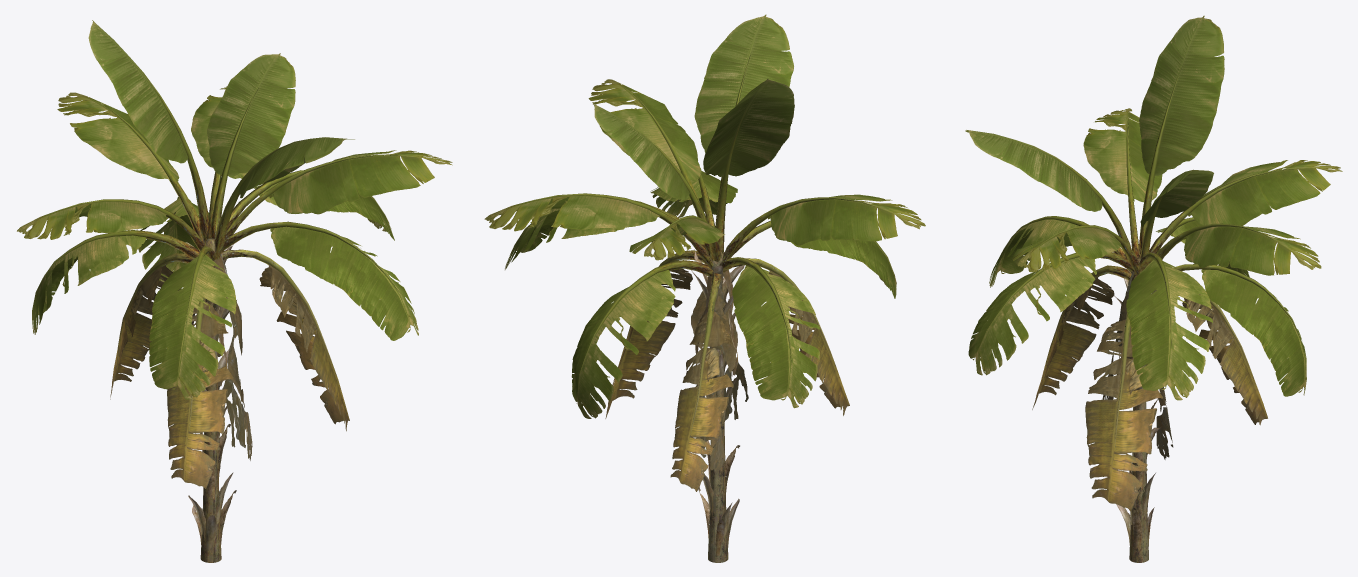
File: BananaTree_LOD1.fbx
3 renders of one model, left to right at view 1: azimuth 30°, elevation 25°; view 2: azimuth 150°, elevation 25°; view 3: azimuth 270°, elevation 25°, orthographic. The views are drawn at different scales.
Visible parts, largest first — view 1: banana_plant_1, banana_plant_0; view 2: banana_plant_1, banana_plant_0; view 3: banana_plant_1, banana_plant_0.
Boxes of the visible parts, x1=… form: banana_plant_1: x1=17, y1=20, x2=452, y2=555; banana_plant_0: x1=37, y1=60, x2=398, y2=562; banana_plant_1: x1=484, y1=14, x2=925, y2=555; banana_plant_0: x1=526, y1=55, x2=885, y2=562; banana_plant_1: x1=965, y1=15, x2=1342, y2=552; banana_plant_0: x1=990, y1=65, x2=1305, y2=562.
Bounding box in the file's own units: 264 × 337 × 234.
Materials: 1 (1 with a texture image).
